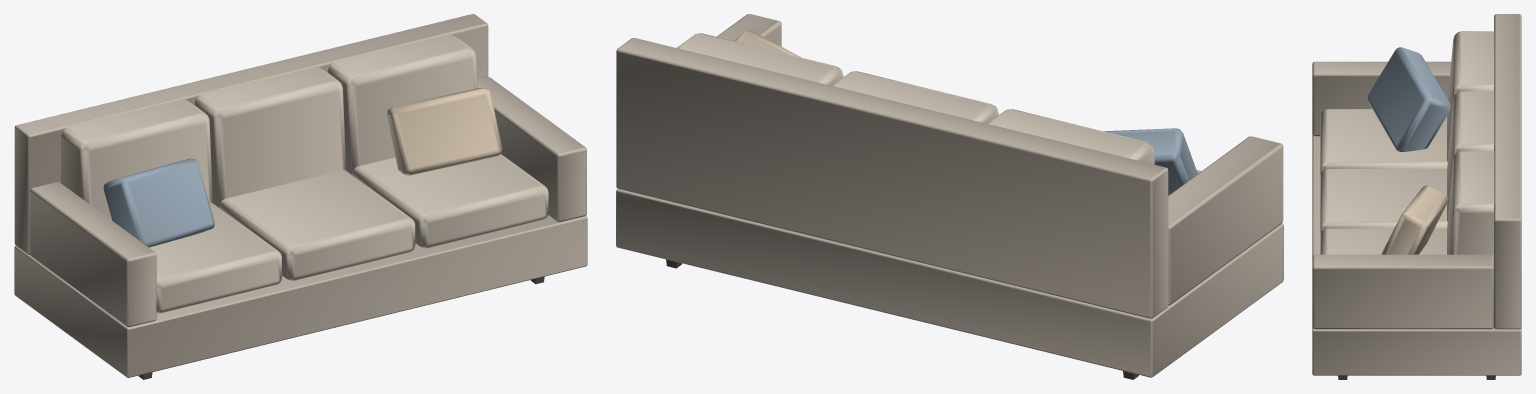
The picture shows the model from 3 angles, left to right: view 1: azimuth 30°, elevation 25°; view 2: azimuth 150°, elevation 25°; view 3: azimuth 270°, elevation 25°; orthographic projection. The views are drawn at different scales.
Parts seen in each view (by area): view 1: F001; view 2: F001; view 3: F001.
Boxes of the visible parts, left/top/right/bottom form: F001: left=14, top=14, right=587, bottom=379; F001: left=616, top=14, right=1283, bottom=379; F001: left=1312, top=14, right=1521, bottom=379.
Size of the model in its own units: 2.13 by 0.8382 by 0.9144.
